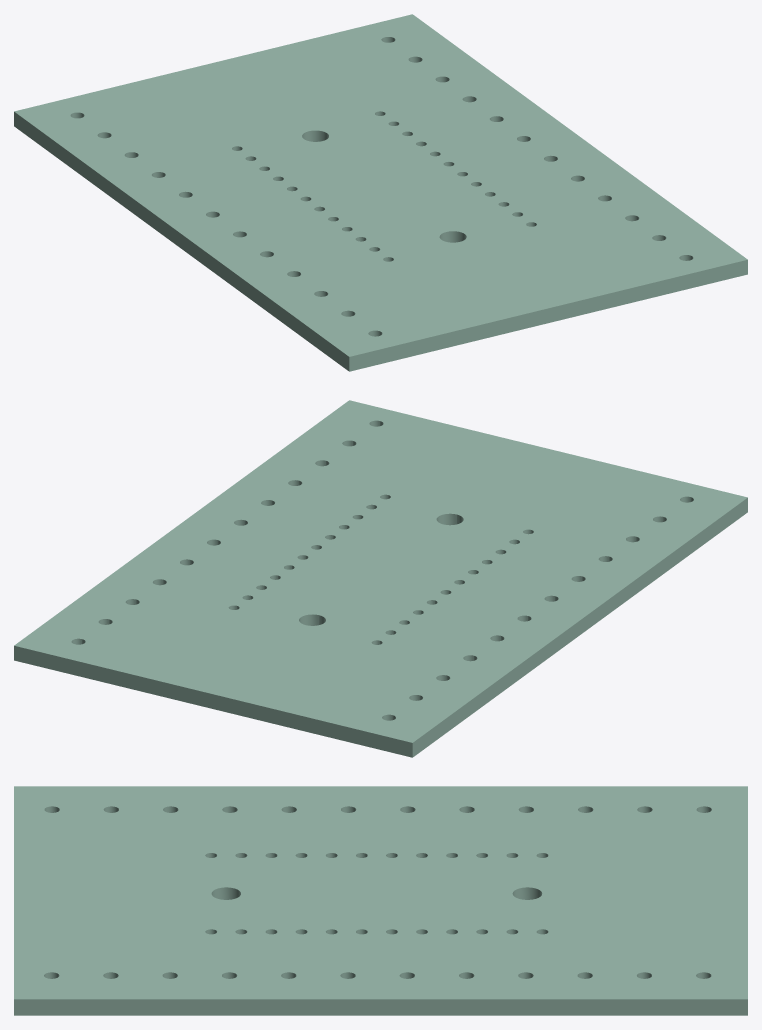
File: MUX.glb
The picture shows the model from 3 angles, top to bottom: view 1: azimuth 30°, elevation 25°; view 2: azimuth 150°, elevation 25°; view 3: azimuth 270°, elevation 25°; orthographic projection. The views are drawn at different scales.
Visible parts, largest first — view 1: empty_2; view 2: empty_2; view 3: empty_2.
Part boxes in pixels (box(x1,y1,x2,y2)): empty_2: box(14, 14, 747, 371); empty_2: box(14, 400, 747, 757); empty_2: box(14, 786, 747, 1015).
Size of the model in its own units: 0.0425 by 0.00151 by 0.0619.
